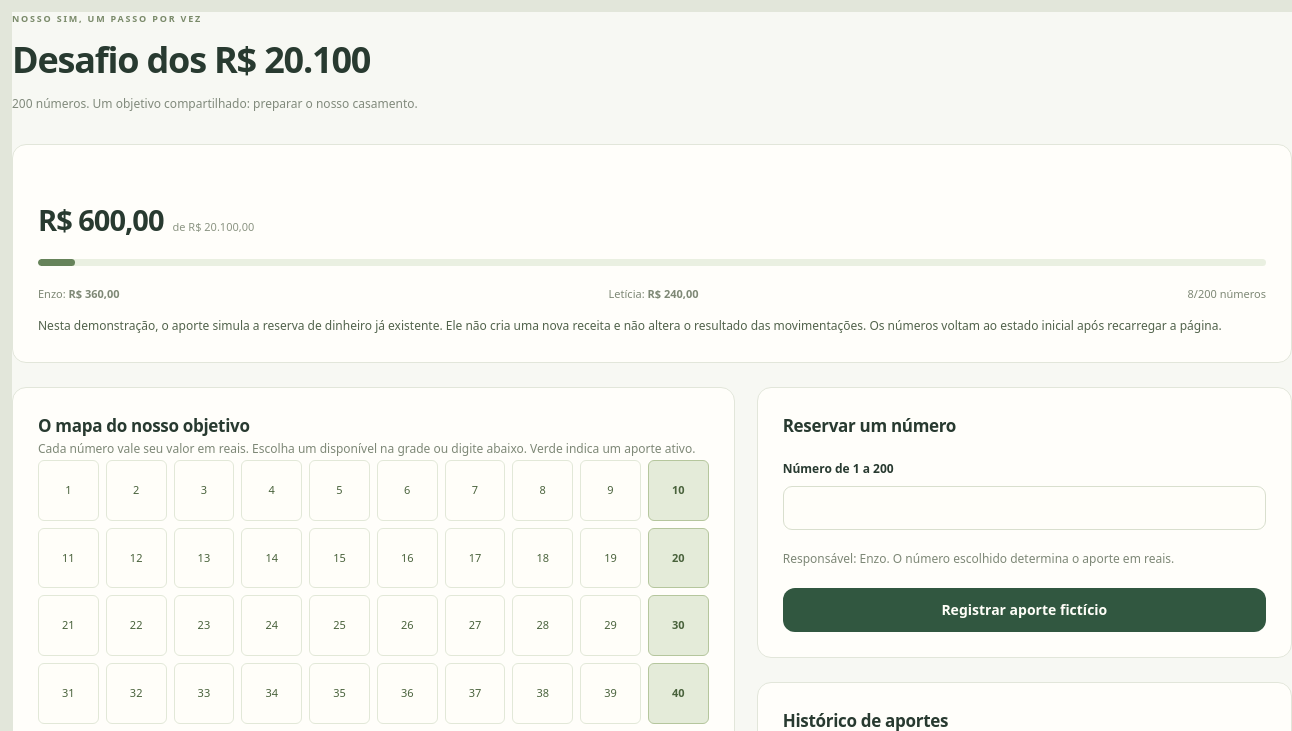
Test case: fluxos críticos da demonstração › bloqueia aporte duplicado e atualiza progresso sem alterar receitas
Click the button named "1 reais: selecionar". click: x=68, y=490
box: [38,460,99,521]
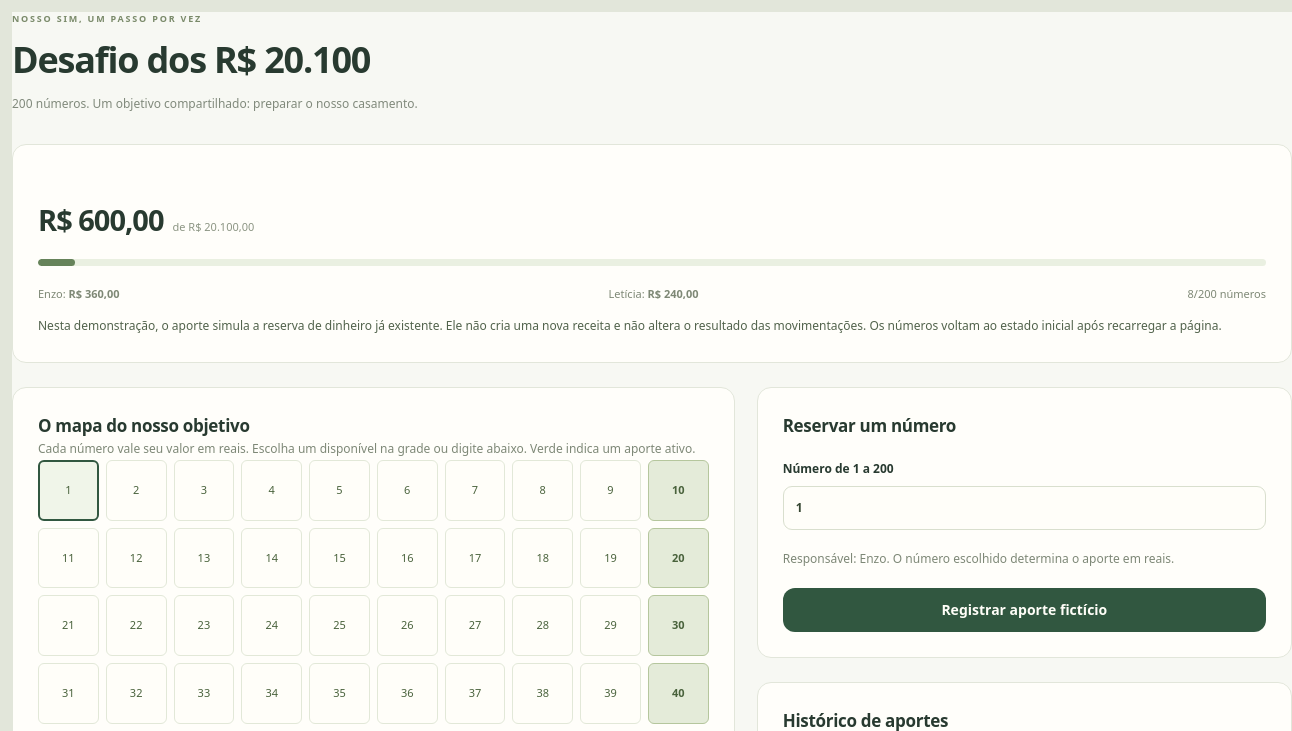
Replace the text in the number field labelled "Número de 1 a 200" with "20". click: x=1024, y=508
box: [783,486,1266,530]
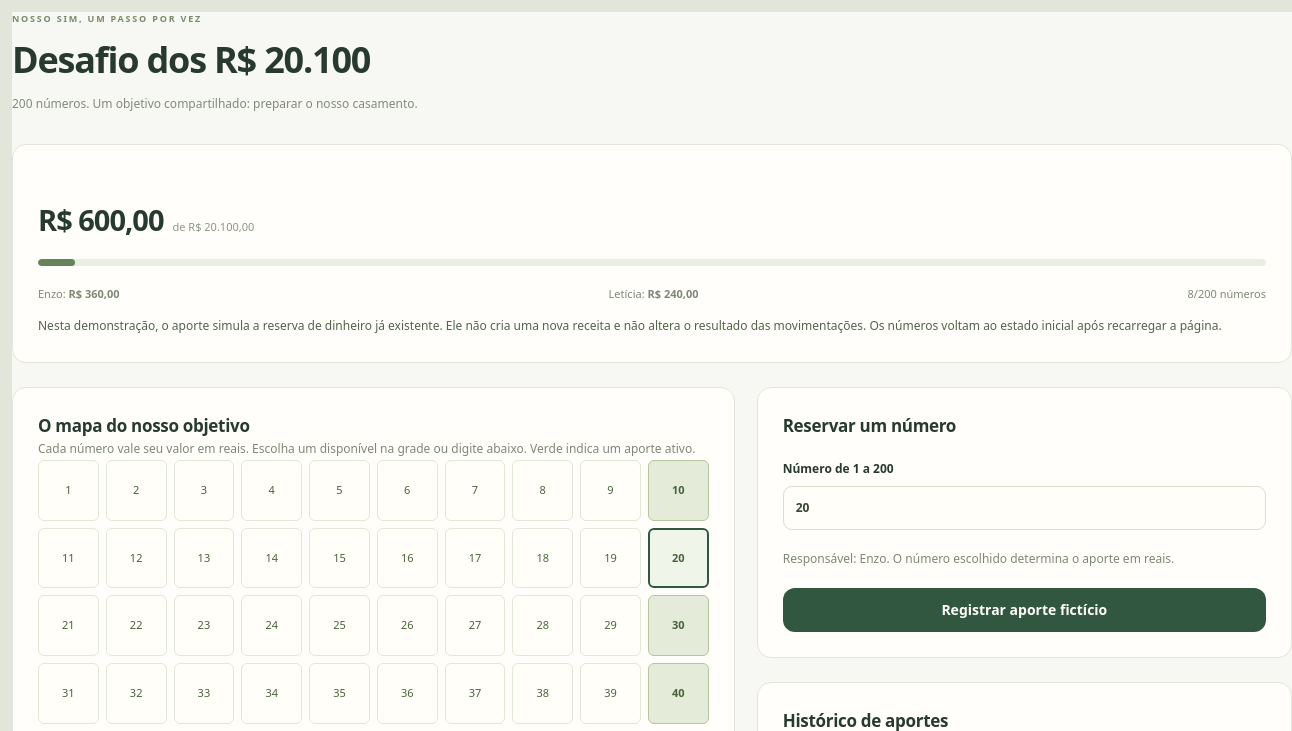
Click the button "Registrar aporte fictício". click: x=1024, y=610
box: [783,588,1266,632]
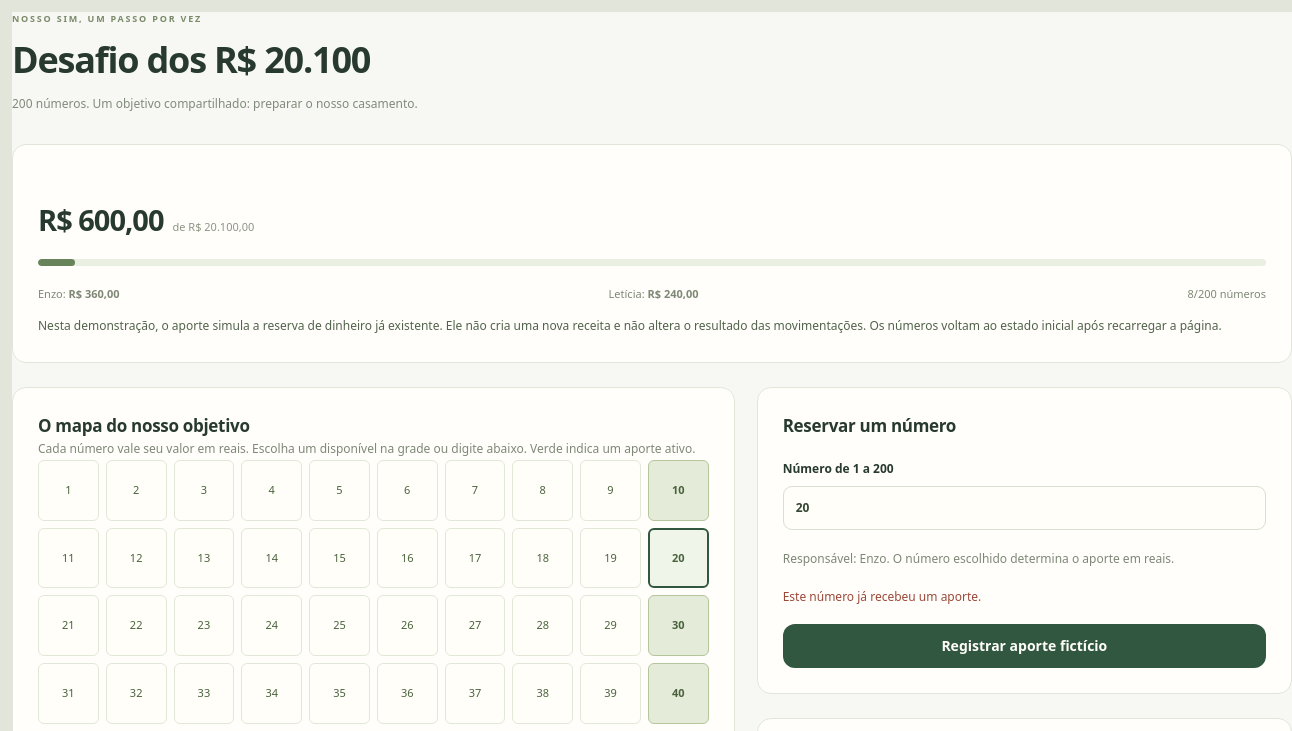
Expected: the message shows "já recebeu", [783,588,981,605]
Replace the text in the number field labelled "Número de 1 a 200" with "1". click: x=1024, y=508
box: [783,486,1266,530]
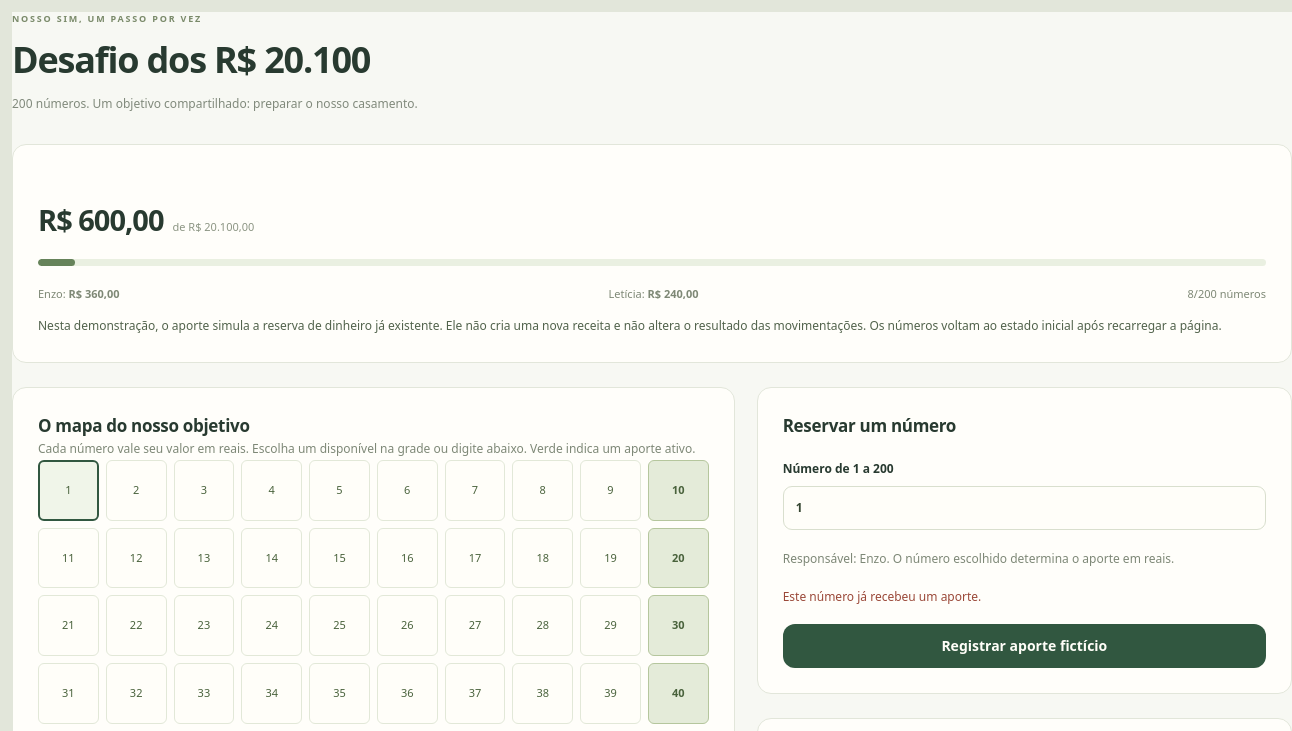
Click the button "Registrar aporte fictício". click: x=1024, y=646
box: [783,624,1266,668]
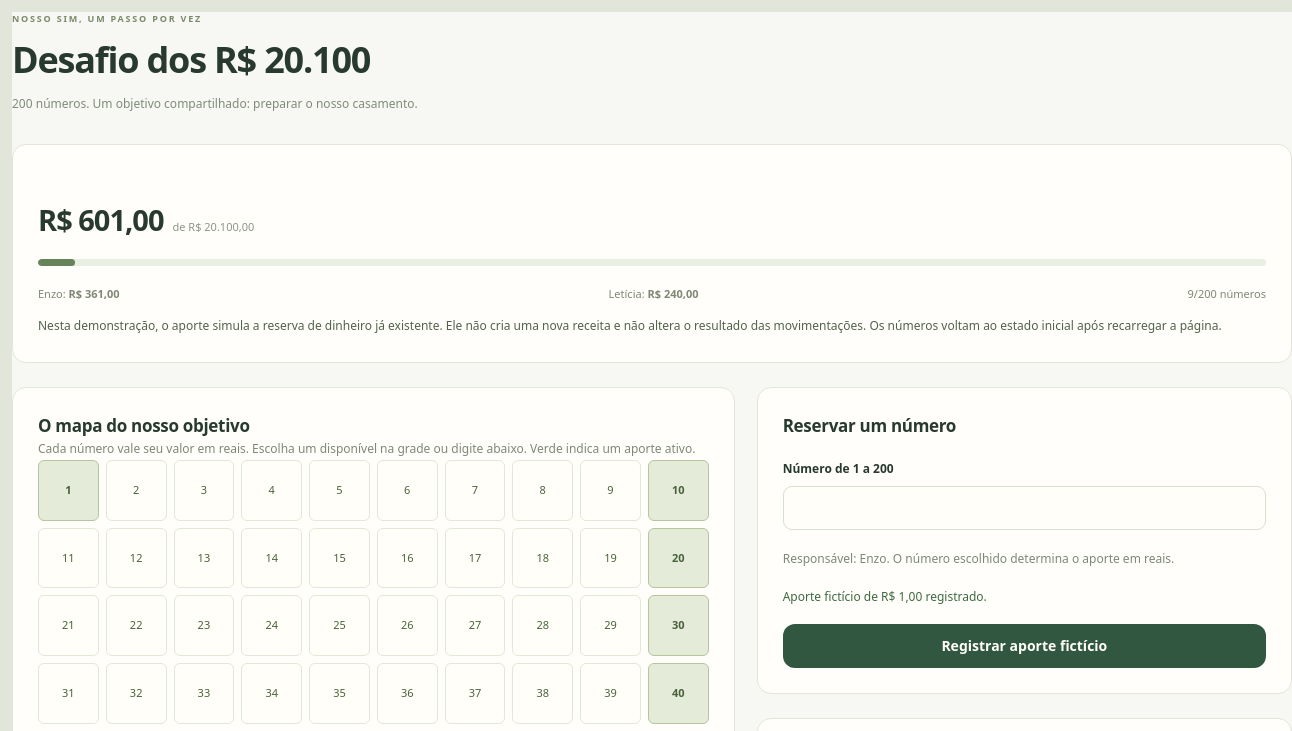
Expected: the button named "1 reais: preenchido" is disabled, [38,460,99,521]
Expected: the message shows "registrado", [783,588,987,605]
Expected: the text "9/200 números" is shown, [1188,286,1266,302]
